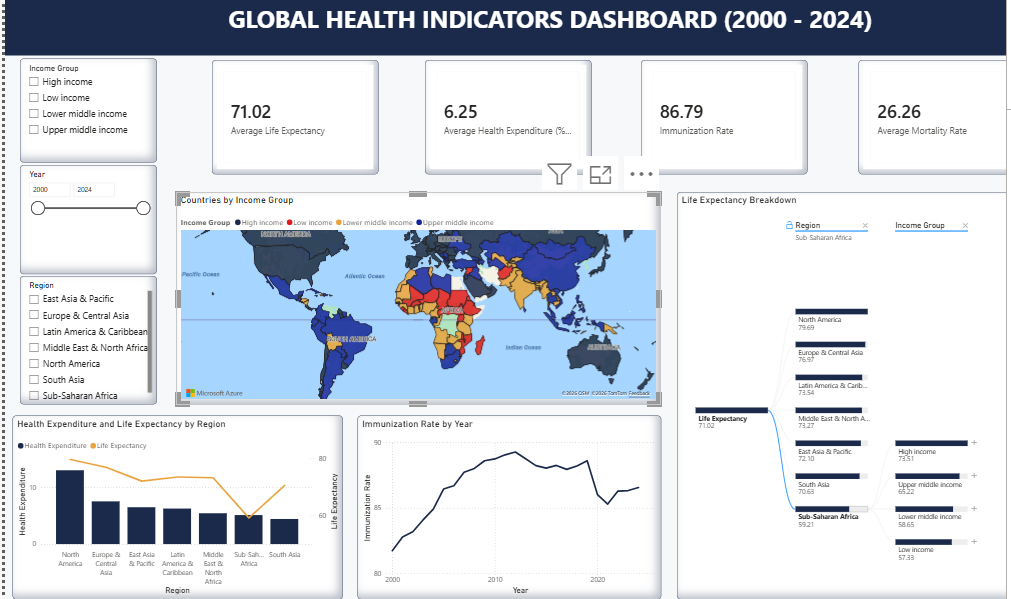

Layout of this report page (visuals, bound fields, positions):
{"tool":"powerbi","page":{"name":"Page 1","canvas":[1920,1080],"ordinal":0},"visuals":[{"type":"textbox","box":[0,0,1918.8,100],"z":0},{"type":"cardVisual","fields":{"Data":["WDICSV.Average Indicator Value"]},"box":[371.9,109.4,300,206.2],"z":1000},{"type":"cardVisual","fields":{"Data":["WDICSV.Average Indicator Value"]},"box":[756.2,109.4,300,206.2],"z":2000},{"type":"cardVisual","fields":{"Data":["WDICSV.Immunization Rate"]},"box":[1146.9,109.4,300,206.2],"z":3000},{"type":"cardVisual","fields":{"Data":["Avg(WDICSV.Indicator Value)"]},"box":[1537.5,109.4,303.1,206.2],"z":4000},{"type":"slicer","fields":{"Values":["WDICountry.Income Group"]},"box":[28.1,106.2,246.9,187.5],"z":5000},{"type":"slicer","fields":{"Values":["WDICountry.Region"]},"box":[28.1,496.9,246.9,231.2],"z":6000},{"type":"slicer","fields":{"Values":["WDICSV.Year"]},"box":[28.1,296.9,246.9,196.9],"z":7000},{"type":"decompositionTreeVisual","title":"Life Expectancy Breakdown","fields":{"Analyze":["WDICSV.Life Expectancy"],"ExplainBy":["WDICountry.Region","WDICountry.Income Group","WDICSV.Country Name"]},"box":[1210.4,345.8,688.8,734.2],"z":8000},{"type":"lineStackedColumnComboChart","fields":{"Category":["WDICountry.Region"],"Y":["WDICSV.Health Expenditure"],"Y2":["WDICSV.Life Expectancy"]},"box":[14.2,748.4,595.3,331.7],"z":9000},{"type":"lineChart","title":"Immunization Rate by Year","fields":{"Category":["WDICSV.Year"],"Y":["WDICSV.Immunization Rate"]},"box":[635,748.4,547.1,331.7],"z":10000},{"type":"azureMap","title":"Countries by Income Group","fields":{"Category":["WDICSV.Country Name"],"Series":["WDICountry.Income Group"]},"box":[309,345.8,873.1,382.7],"z":11000}]}

Visuals, with their boxes on the page's 1920x1080 design canvas (x1, y1, x2, y2). These are canvas units, not pixel positions in the 1011x599 screenshot, which may show the page scaled, cropped or inside an application window:
textbox: Rect(0, 0, 1919, 100)
cardVisual - WDICSV.Average Indicator Value: Rect(372, 109, 672, 316)
cardVisual - WDICSV.Average Indicator Value: Rect(756, 109, 1056, 316)
cardVisual - WDICSV.Immunization Rate: Rect(1147, 109, 1447, 316)
cardVisual - Avg(WDICSV.Indicator Value): Rect(1538, 109, 1841, 316)
slicer - WDICountry.Income Group: Rect(28, 106, 275, 294)
slicer - WDICountry.Region: Rect(28, 497, 275, 728)
slicer - WDICSV.Year: Rect(28, 297, 275, 494)
"Life Expectancy Breakdown" decompositionTreeVisual: Rect(1210, 346, 1899, 1080)
lineStackedColumnComboChart - WDICountry.Region x WDICSV.Health Expenditure: Rect(14, 748, 610, 1080)
"Immunization Rate by Year" lineChart: Rect(635, 748, 1182, 1080)
"Countries by Income Group" azureMap: Rect(309, 346, 1182, 728)
